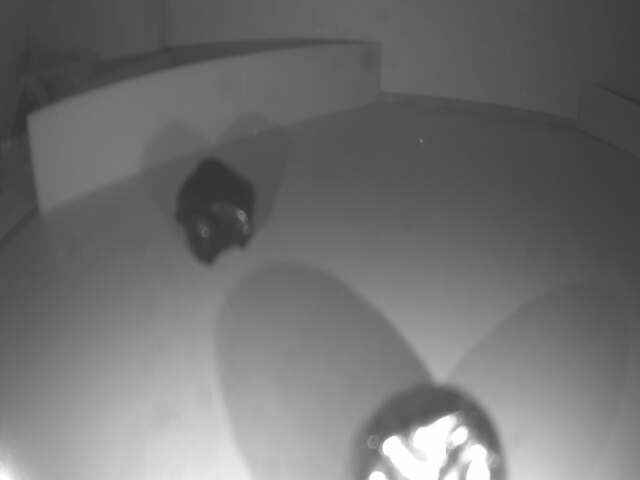Green: (573, 74, 640, 154)
Red: (21, 39, 377, 221)
